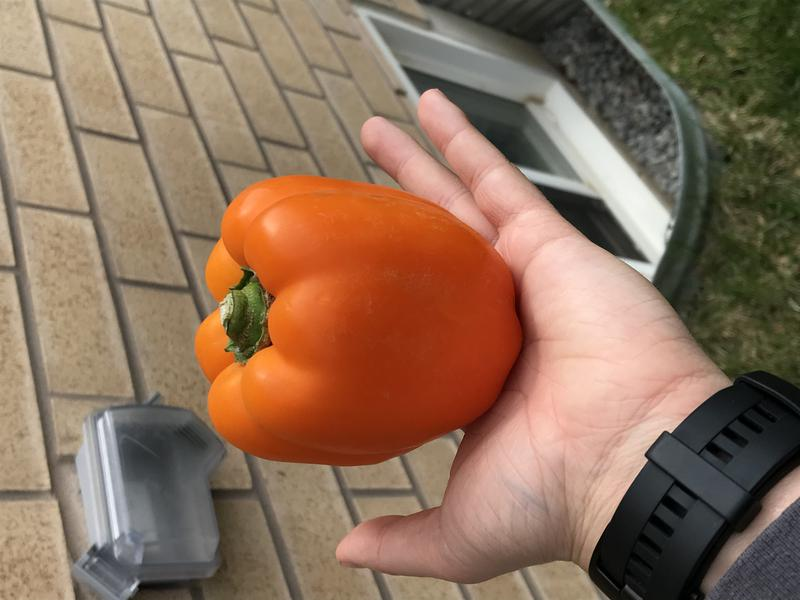orange_pepper: (176, 161, 531, 477)
